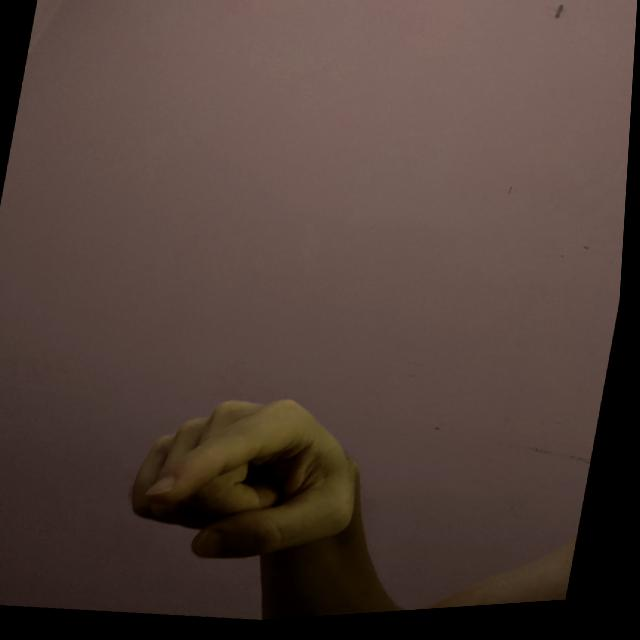Z: (117, 373, 390, 590)
